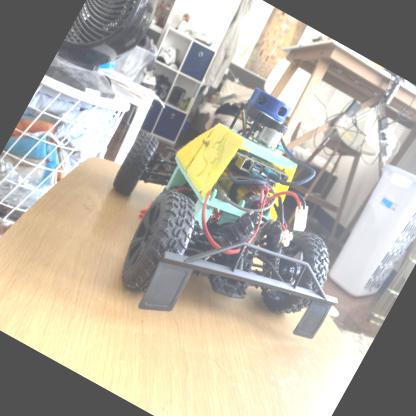mushr_car: (61, 46, 411, 394)
